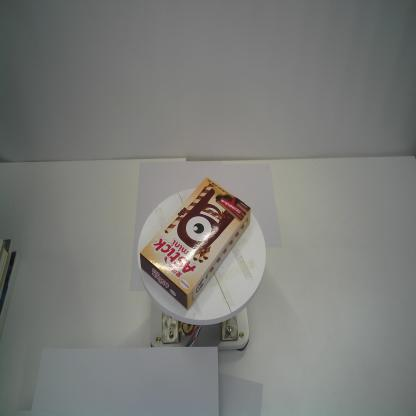Dessert: (138, 174, 252, 310)
